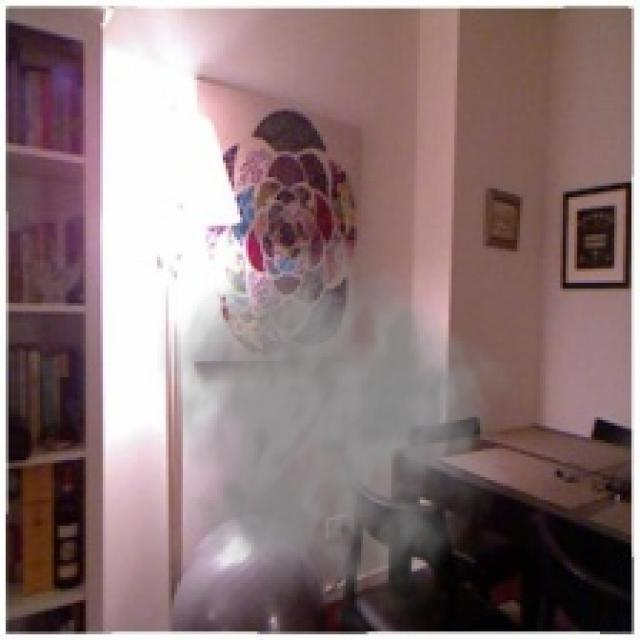Smoke: (157, 237, 517, 637)
